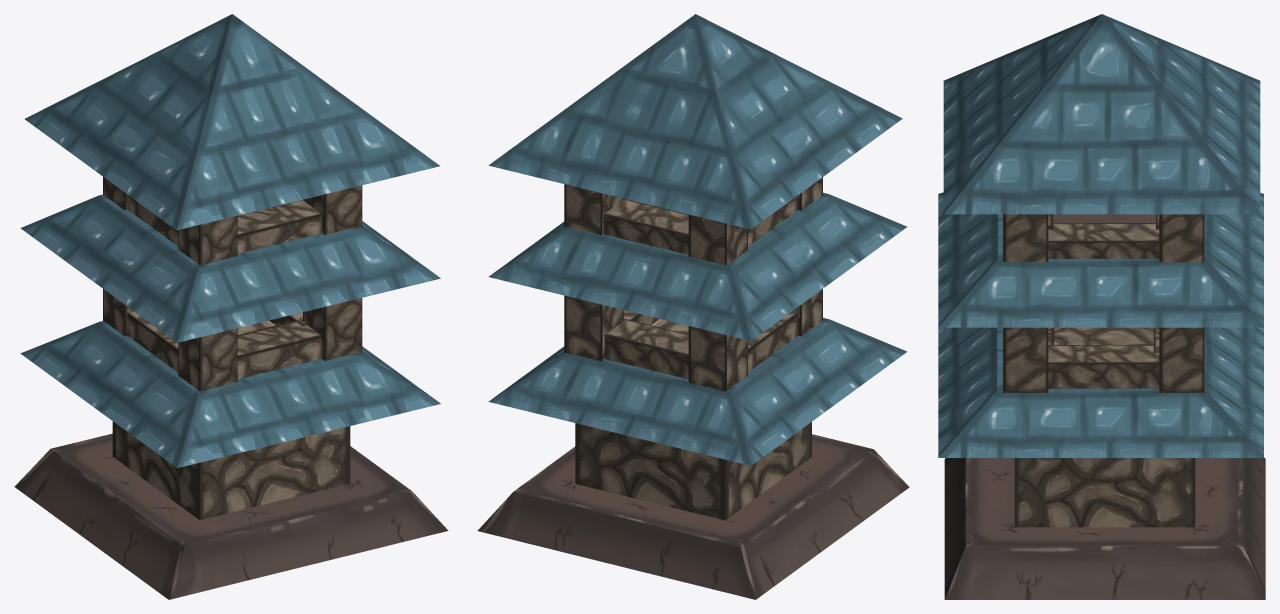
Rendered from Sniper_Tower_1.fbx.
3 views of the same model, side by side, from view 1: azimuth 30°, elevation 25°; view 2: azimuth 150°, elevation 25°; view 3: azimuth 270°, elevation 25° (orthographic). The views are drawn at different scales.
Parts seen in each view (by area): view 1: boven dak, base, dak 2, dak 1, eerste verdieping, Cube.11, Cube.12, Cube.3, Cube.4, Cube.6, Cube.5, Cube.10 (+2 smaller); view 2: boven dak, base, dak 2, dak 1, eerste verdieping, Cube.14, Cube.15, Cube.2, Cube.1, Cube.7, Cube.8, Cube.10 (+2 smaller); view 3: boven dak, base, dak 1, dak 2, eerste verdieping, Cube.9, Cube.13, Cube.4, Cube.1, Cube.8, Cube.5, vloer.
Boxes of the visible parts, left/top/right/bottom form: boven dak: left=25, top=14, right=439, bottom=230; base: left=14, top=433, right=448, bottom=599; dak 2: left=20, top=194, right=440, bottom=342; dak 1: left=20, top=321, right=440, bottom=468; eerste verdieping: left=112, top=320, right=350, bottom=520; Cube.11: left=237, top=321, right=321, bottom=379; Cube.12: left=237, top=200, right=322, bottom=253; Cube.3: left=178, top=328, right=237, bottom=391; Cube.4: left=303, top=298, right=362, bottom=360; Cube.6: left=178, top=215, right=237, bottom=265; Cube.5: left=303, top=185, right=362, bottom=234; Cube.10: left=127, top=311, right=178, bottom=372; boven dak: left=488, top=14, right=902, bottom=229; base: left=477, top=434, right=909, bottom=599; dak 2: left=489, top=192, right=907, bottom=340; dak 1: left=488, top=318, right=907, bottom=465; eerste verdieping: left=575, top=319, right=811, bottom=520; Cube.14: left=604, top=318, right=688, bottom=379; Cube.15: left=603, top=198, right=688, bottom=254; Cube.2: left=688, top=326, right=747, bottom=391; Cube.1: left=564, top=295, right=623, bottom=361; Cube.7: left=688, top=214, right=747, bottom=265; Cube.8: left=564, top=184, right=623, bottom=235; Cube.10: left=748, top=311, right=798, bottom=372; boven dak: left=943, top=14, right=1260, bottom=214; base: left=944, top=457, right=1265, bottom=599; dak 1: left=938, top=327, right=1263, bottom=457; dak 2: left=938, top=192, right=1263, bottom=327; eerste verdieping: left=1014, top=327, right=1195, bottom=527; Cube.9: left=1048, top=344, right=1159, bottom=388; Cube.13: left=1048, top=223, right=1159, bottom=258; Cube.4: left=1003, top=327, right=1048, bottom=392; Cube.1: left=1159, top=327, right=1204, bottom=392; Cube.8: left=1159, top=214, right=1204, bottom=262; Cube.5: left=1003, top=214, right=1048, bottom=261; vloer: left=1053, top=214, right=1155, bottom=223.
Bounding box in the file's own units: 371 × 630 × 362.
Materials: 22 (22 with a texture image).
